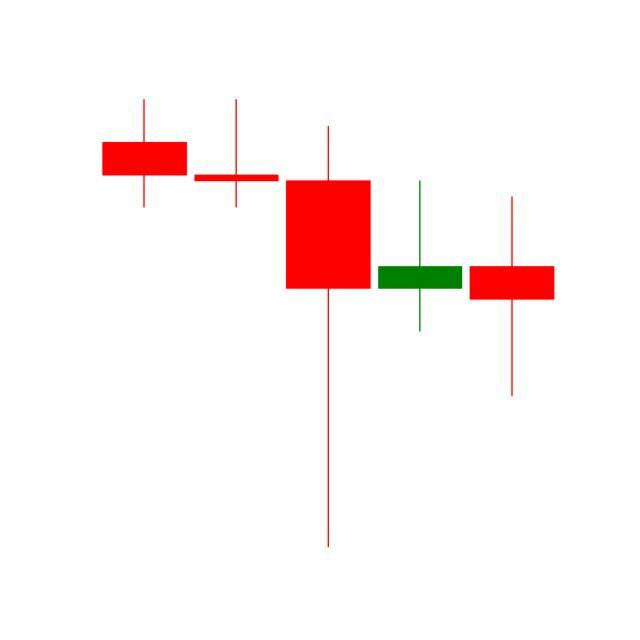Spinning Top: (374, 178, 468, 334)
